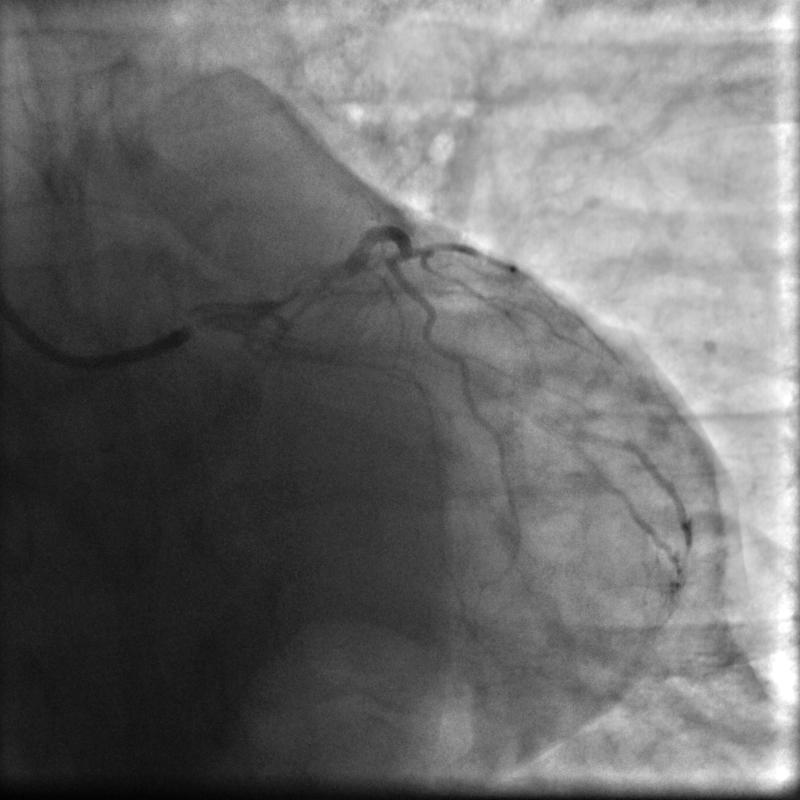Stenosis: (272, 266, 346, 311)
